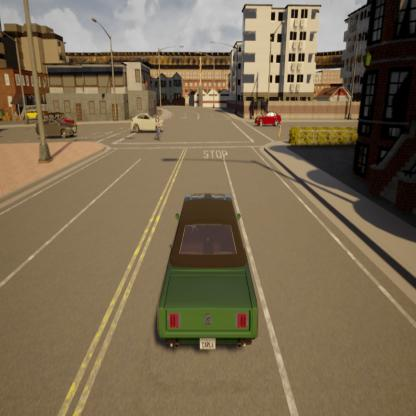Cars: (155, 192, 260, 354), (36, 115, 78, 139), (130, 113, 164, 136), (255, 106, 281, 127), (155, 112, 164, 140)
Pedestrian: (276, 115, 284, 141)
